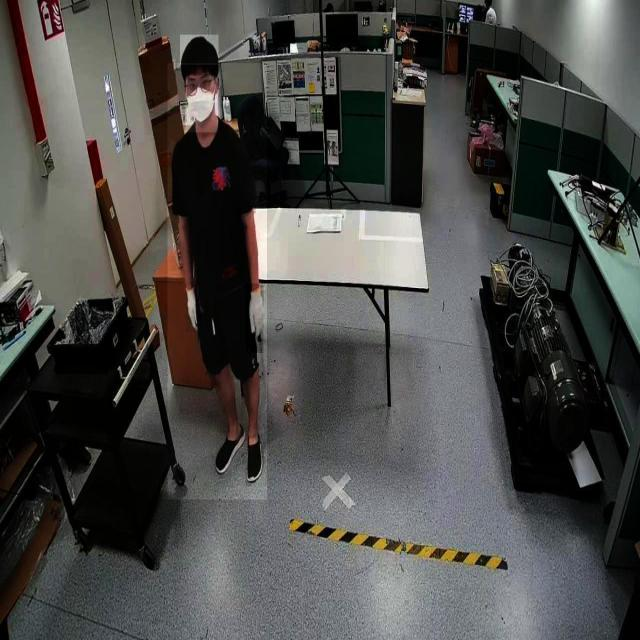face_mask: (186, 76, 218, 132)
hand_glove: (246, 284, 264, 354), (186, 282, 202, 333)
head_nohelmet: (180, 34, 219, 66)
person: (168, 63, 268, 501)
shoes: (216, 420, 247, 480), (242, 421, 266, 483)
